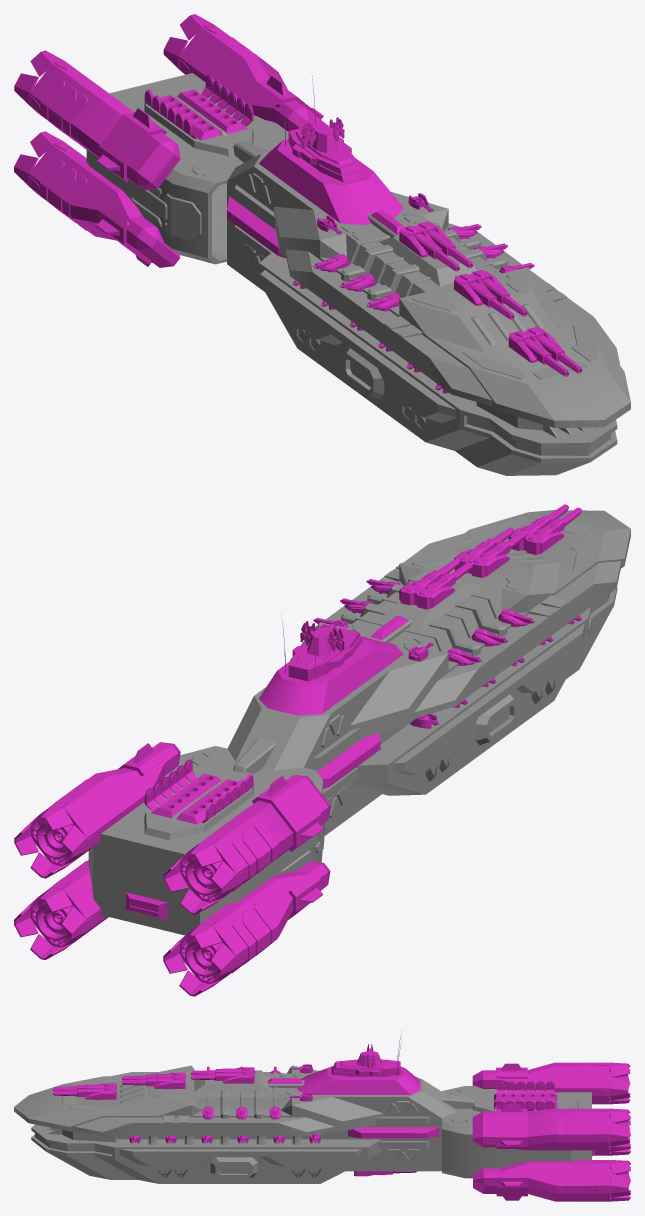
File: playship2F.FBX
3 renders of one model, top to bottom at view 1: azimuth 30°, elevation 25°; view 2: azimuth 150°, elevation 25°; view 3: azimuth 270°, elevation 25°, orthographic. The views are drawn at different scales.
Visible parts, largest first — view 1: Object364, Object378, Object399, engine002, engine003, Object239, engine004, Object363, Object375, Object312, missle002, Object374 (+6 smaller); view 2: Object364, Object378, Object399, engine002, Object363, Object239, engine003, engine004, engine005, Object312, missle002, Object375 (+8 smaller); view 3: Object364, Object378, Object399, engine004, Object363, engine005, Object239, engine002, Object374, missle_door004, Object312, missle002 (+12 smaller).
Boxes of the visible parts, x1,y1,x2,y2 form: Object364: (259,192,630,475); Object378: (88,73,597,398); Object399: (260,223,620,422); engine002: (29,60,180,189); engine003: (28,141,180,267); Object239: (259,73,403,224); engine004: (178,24,328,131); Object363: (227,151,553,430); Object375: (86,149,201,240); Object312: (144,83,253,156); missle002: (160,89,247,140); Object374: (227,196,286,258); Object364: (304,510,630,795); Object378: (88,516,597,935); Object399: (290,533,620,775); engine002: (180,774,330,902); Object363: (227,669,408,835); Object239: (259,615,403,715); engine003: (180,861,330,984); engine004: (31,742,180,866); engine005: (30,860,108,947); Object312: (144,768,253,840); missle002: (150,773,238,824); Object375: (216,823,324,903); Object364: (14,1065,383,1183); Object378: (62,1068,591,1178); Object399: (74,1072,361,1166); engine004: (472,1104,615,1150); Object363: (62,1077,455,1171); engine005: (473,1160,615,1201); Object239: (297,1033,420,1094); engine002: (472,1062,615,1104); Object374: (348,1127,439,1138); missle_door004: (496,1081,554,1093); Object312: (472,1093,578,1112); missle002: (494,1093,557,1109).
Bounding box in the file's own units: 198 × 208 × 775.
